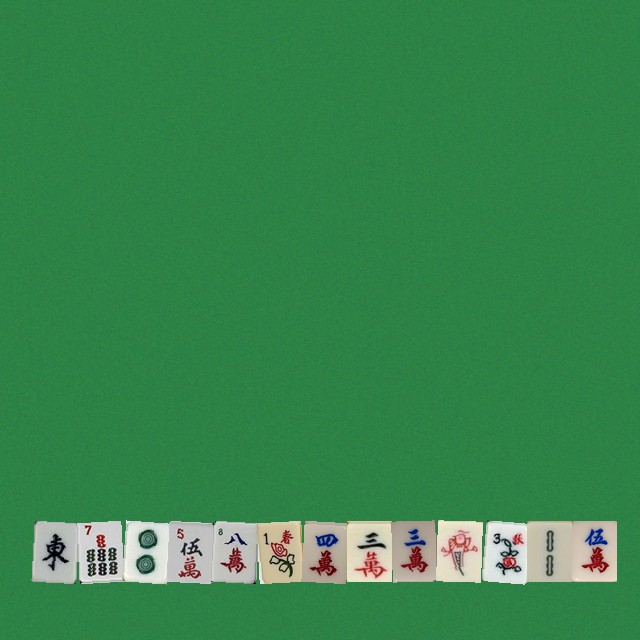tile: (31, 520, 76, 581), (76, 520, 121, 581), (121, 520, 166, 581), (166, 520, 211, 581), (211, 520, 256, 581), (256, 520, 301, 581), (301, 520, 346, 581), (346, 520, 391, 581), (391, 520, 436, 581), (436, 520, 481, 581), (481, 520, 526, 581), (526, 520, 571, 581), (571, 520, 616, 581)
